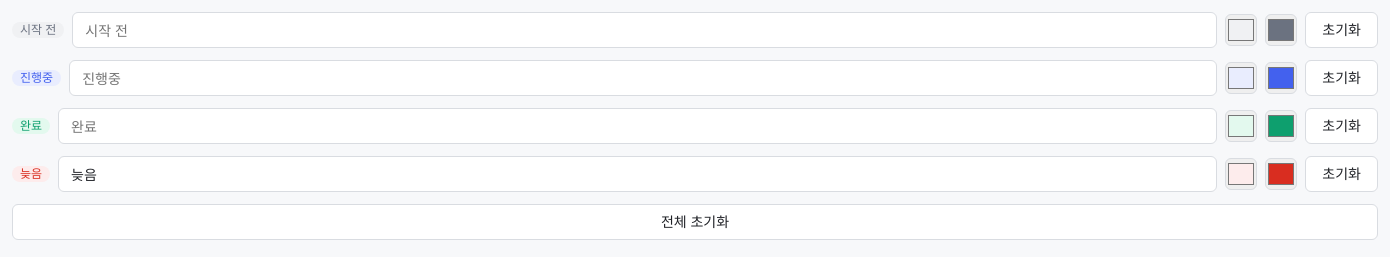
Scenario: StatusDisplaySettings › 개별 초기화 버튼은 해당 상태의 커스텀 라벨만 지운다
The width and height of the screenshot is (1390, 257).
// STATUS_ORDER: not_started, in_progress, completed, overdue → 마지막이 overdue 행
Click the button "초기화" in the row of "늦음": (1342,174) [1305, 156, 1378, 192]
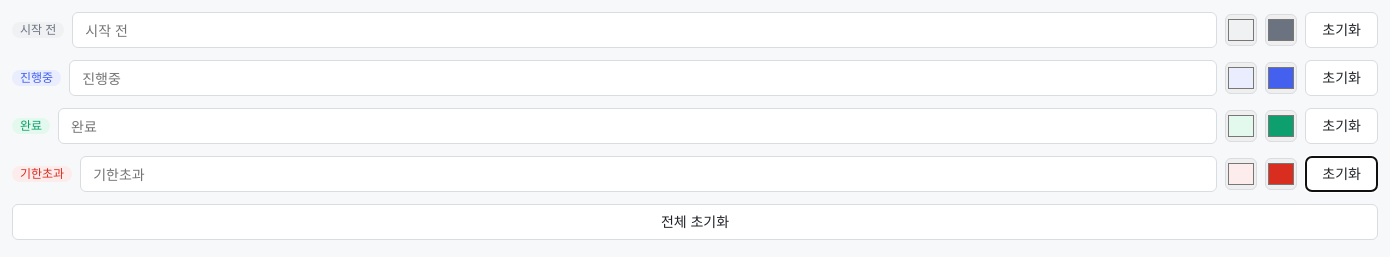
Check: the text "기한초과" is shown, box [12, 166, 72, 182]
